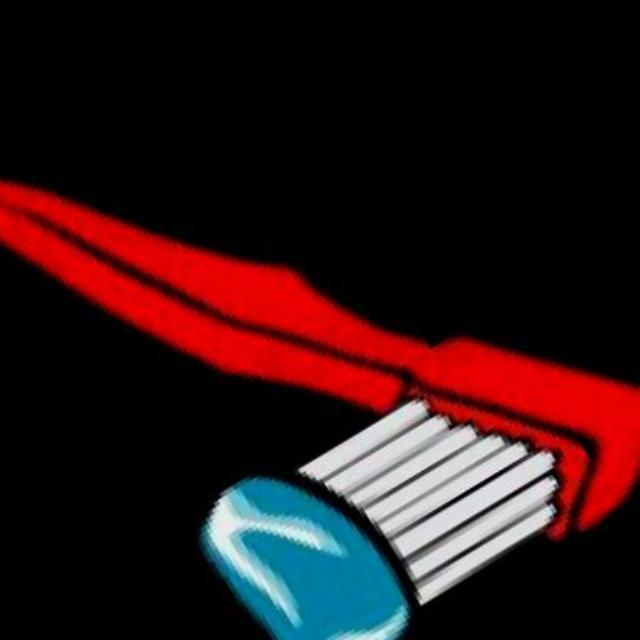toothbrush: (206, 236, 638, 638)
